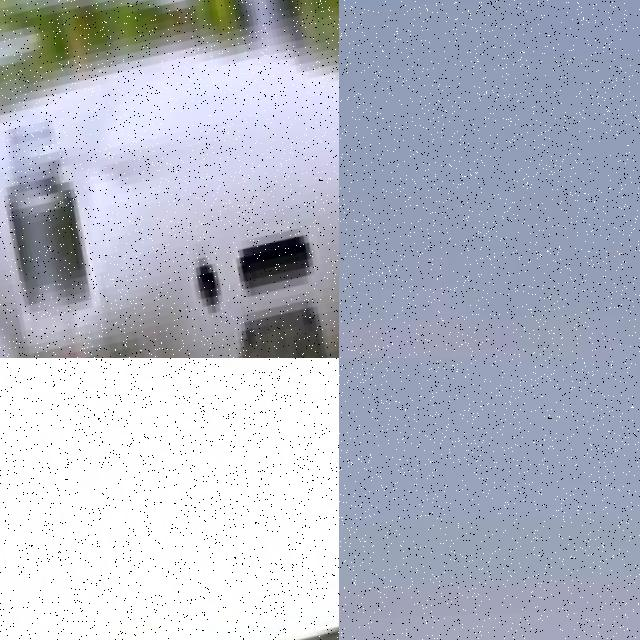drone: (0, 0, 339, 358), (0, 358, 339, 640)
